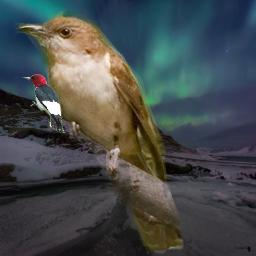Cuckoo: (15, 11, 184, 254)
Woodpecker: (21, 74, 66, 133)
